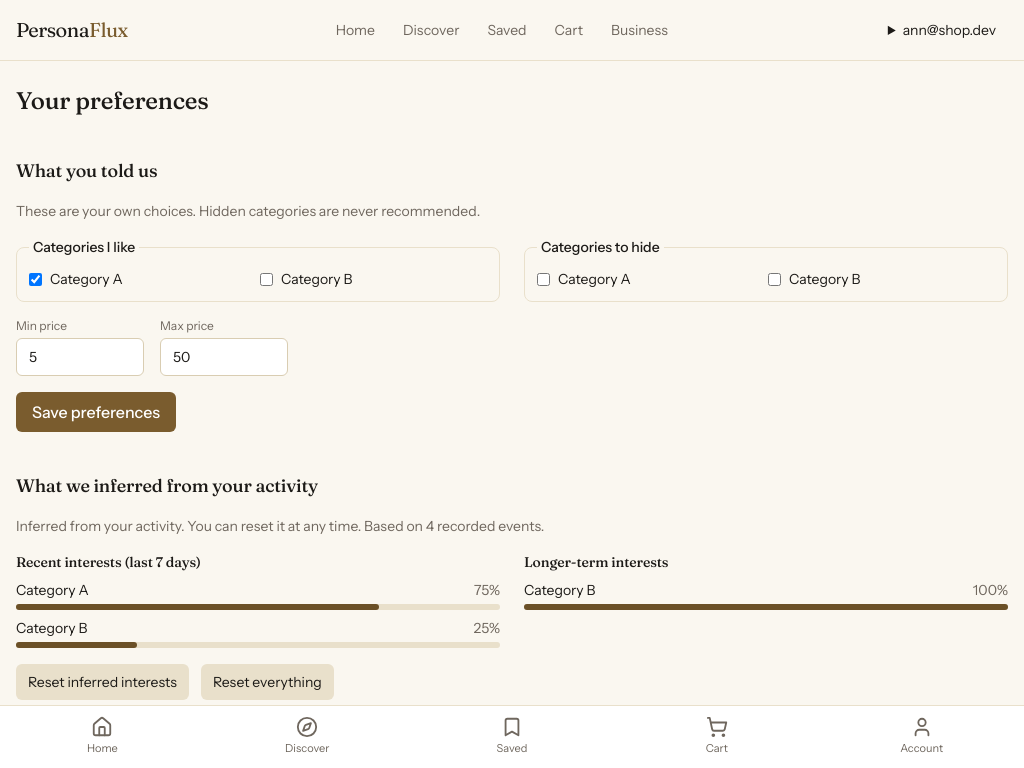
Scenario: preferences › refuses a backwards price range
Step 1. Replace the text in the field labelled "Min price" with "99" → x=80, y=357, box x1=16 y1=338 x2=144 y2=376
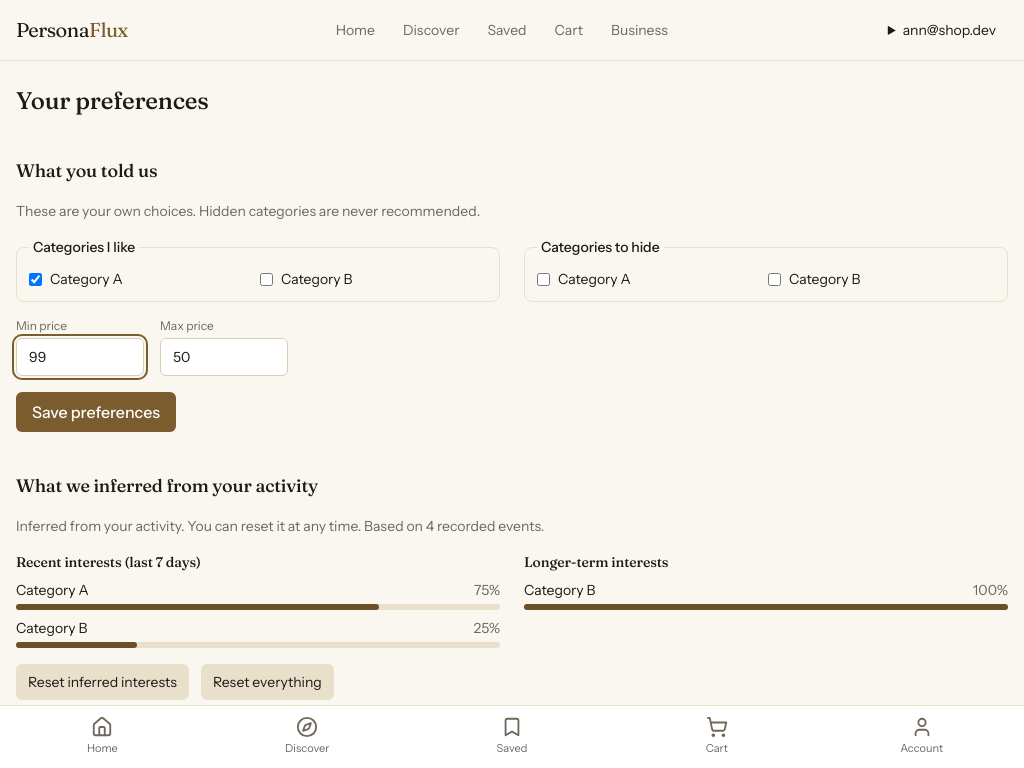
Step 2. Click the button "Save preferences" → x=96, y=412, box x1=16 y1=392 x2=176 y2=432
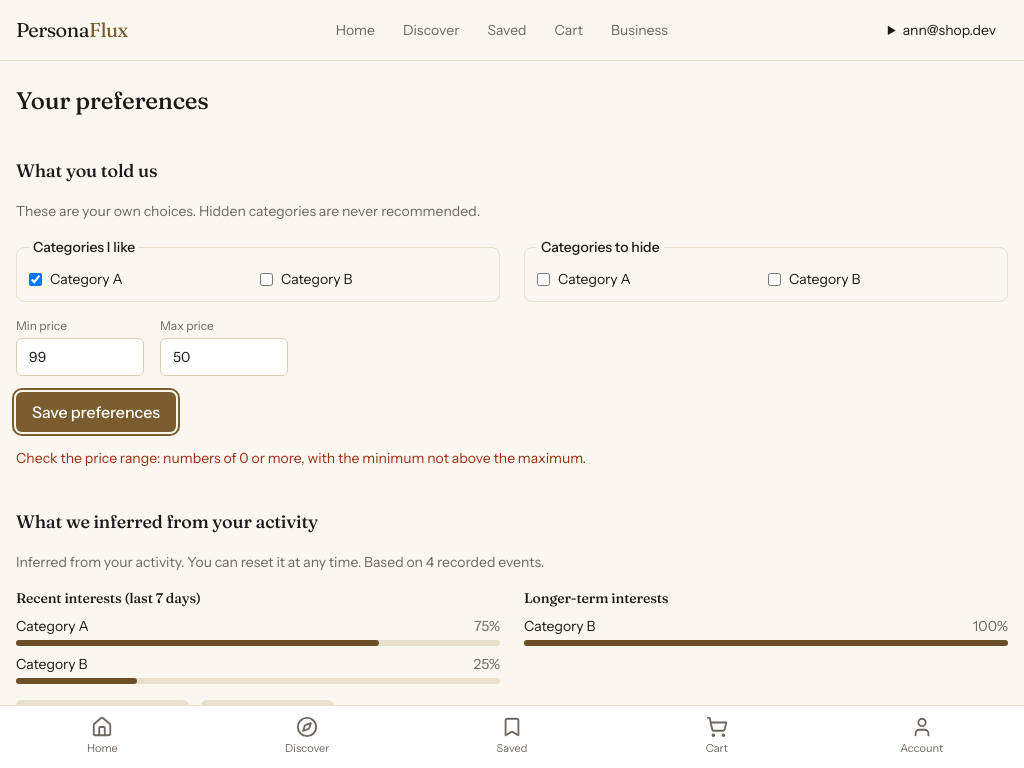
Check: the message shows "Check the price range", box x1=16 y1=449 x2=586 y2=467
